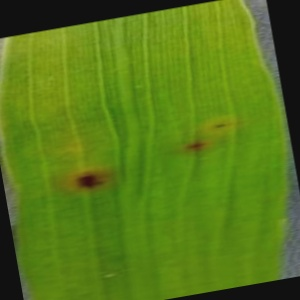Bacterial_Leaf_Blight: (72, 162, 117, 199), (203, 112, 243, 136), (177, 136, 211, 158)
